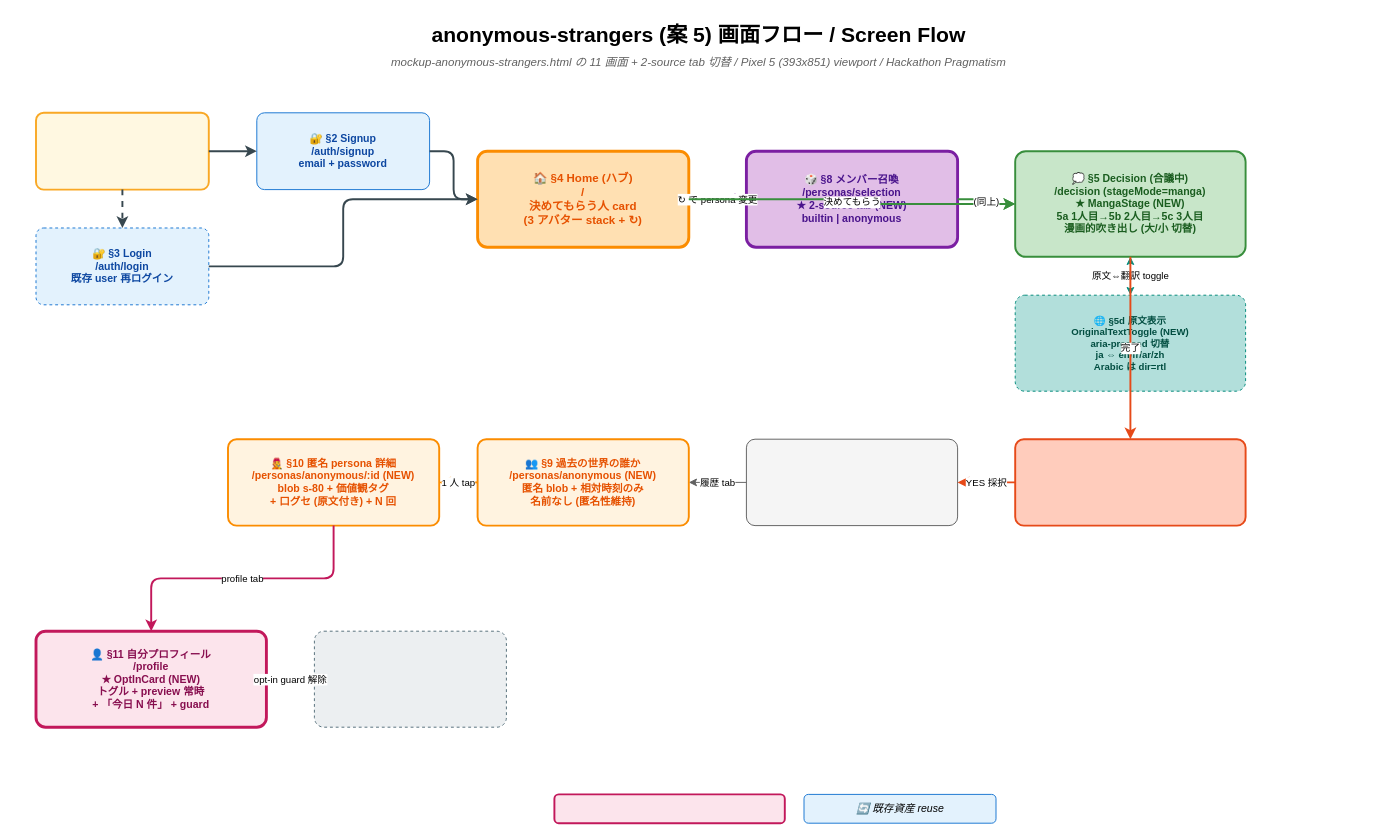
This 1396x840 diagram has some shape labels left out. The shapes that lost their labels are listed below. From the top down, each one's centre as x and y in pixels, then its label:
point 122,150: 📱 §1 Splash /auth/splash 地球地平線 + 3 blob
point 851,482: 📜 §7 過去ログ 履歴タブ chat-style log + 結論 + ✓YES marker
point 1130,482: 🎉 §6 結論カード /decision (result) NO / YES button chosen persona 拡大
point 409,678: 📝 (再掲) Onboarding /onboarding 25 問 swipe で tags 充足 = opt-in guard 解除条件
point 669,808: ★ 新規 (anonymous-strangers unit)
